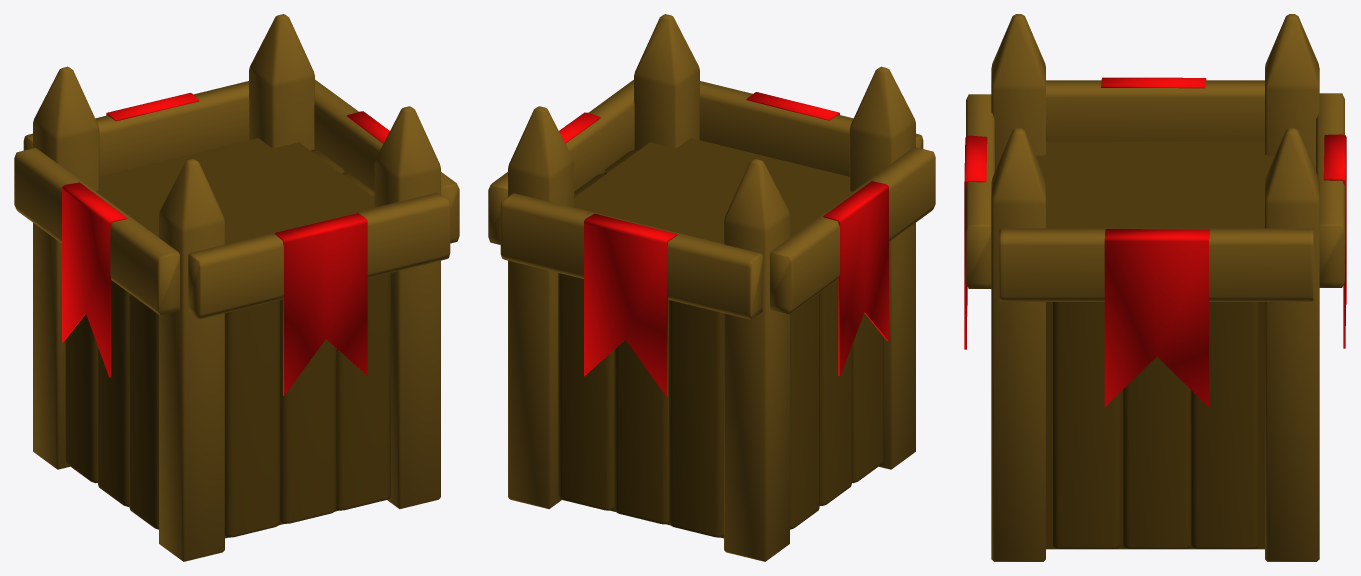
File: ArcherTower_Level1_RedTeam.fbx
The picture shows the model from 3 angles, left to right: view 1: azimuth 30°, elevation 25°; view 2: azimuth 150°, elevation 25°; view 3: azimuth 270°, elevation 25°; orthographic projection. The views are drawn at different scales.
Visible parts, largest first — view 1: ArcherTower_Level1_RedTeam; view 2: ArcherTower_Level1_RedTeam; view 3: ArcherTower_Level1_RedTeam.
Boxes of the visible parts, x1,y1,x2,y2 form: ArcherTower_Level1_RedTeam: [14, 14, 459, 561]; ArcherTower_Level1_RedTeam: [488, 14, 935, 561]; ArcherTower_Level1_RedTeam: [964, 14, 1346, 561].
Bounding box in the file's own units: 1397 × 1701 × 1397.
